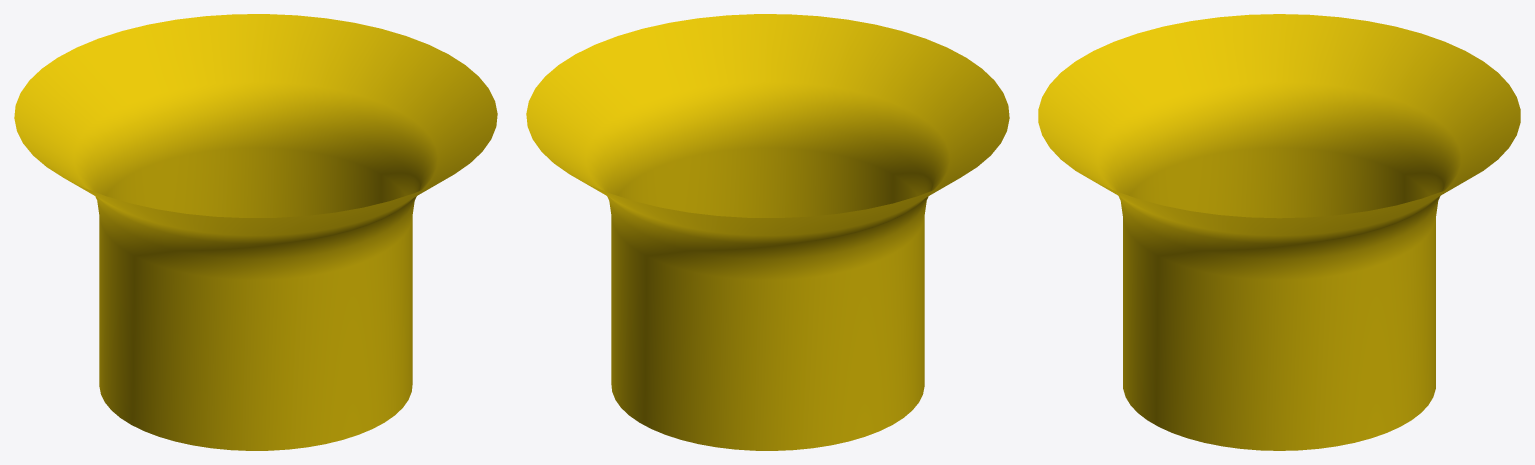
Rendered from HAllBottom.fbx.
The picture shows the model from 3 angles, left to right: view 1: azimuth 30°, elevation 25°; view 2: azimuth 150°, elevation 25°; view 3: azimuth 270°, elevation 25°; orthographic projection.
Parts seen in each view (by area): view 1: Hall3; view 2: Hall3; view 3: Hall3.
Boxes of the visible parts, x1=… form: Hall3: x1=14, y1=14, x2=497, y2=450; Hall3: x1=526, y1=14, x2=1009, y2=450; Hall3: x1=1038, y1=14, x2=1520, y2=450.
Bounding box in the file's own units: 5192 × 3185 × 5182.
